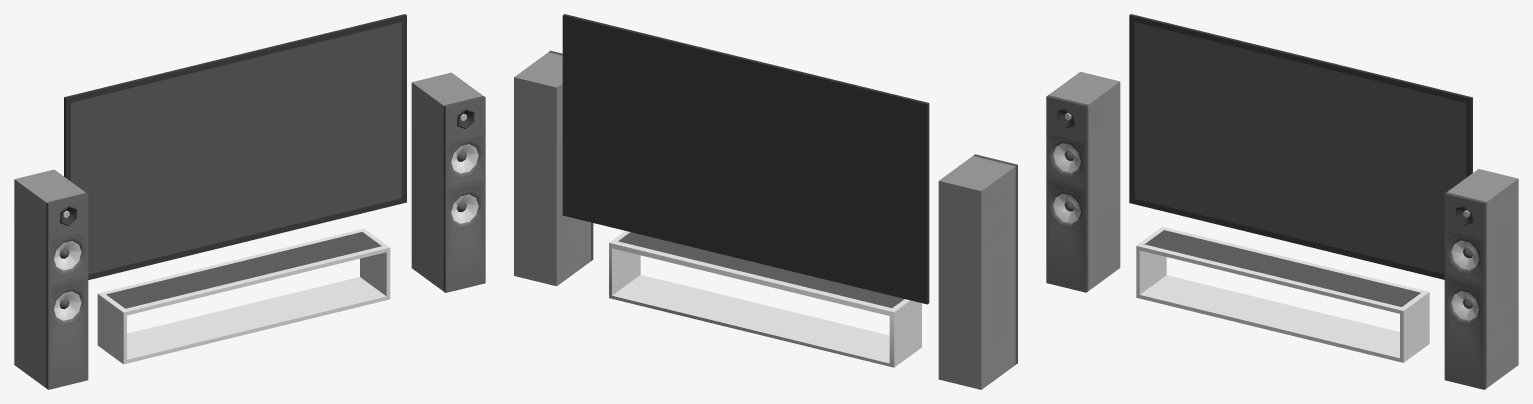
Rendered from tv_wall_005.glb.
3 views of the same model, side by side, from view 1: azimuth 30°, elevation 25°; view 2: azimuth 150°, elevation 25°; view 3: azimuth 330°, elevation 25° (orthographic). The views are drawn at different scales.
Parts seen in each view (by area): view 1: tv_wall_005; view 2: tv_wall_005; view 3: tv_wall_005.
Boxes of the visible parts, bbox=[...] form: tv_wall_005: bbox=[14, 14, 485, 389]; tv_wall_005: bbox=[514, 14, 1017, 389]; tv_wall_005: bbox=[1046, 14, 1518, 389].
Size of the model in its own units: 3.04 by 1.69 by 0.4203.
Materials: 1 (1 with a texture image).
